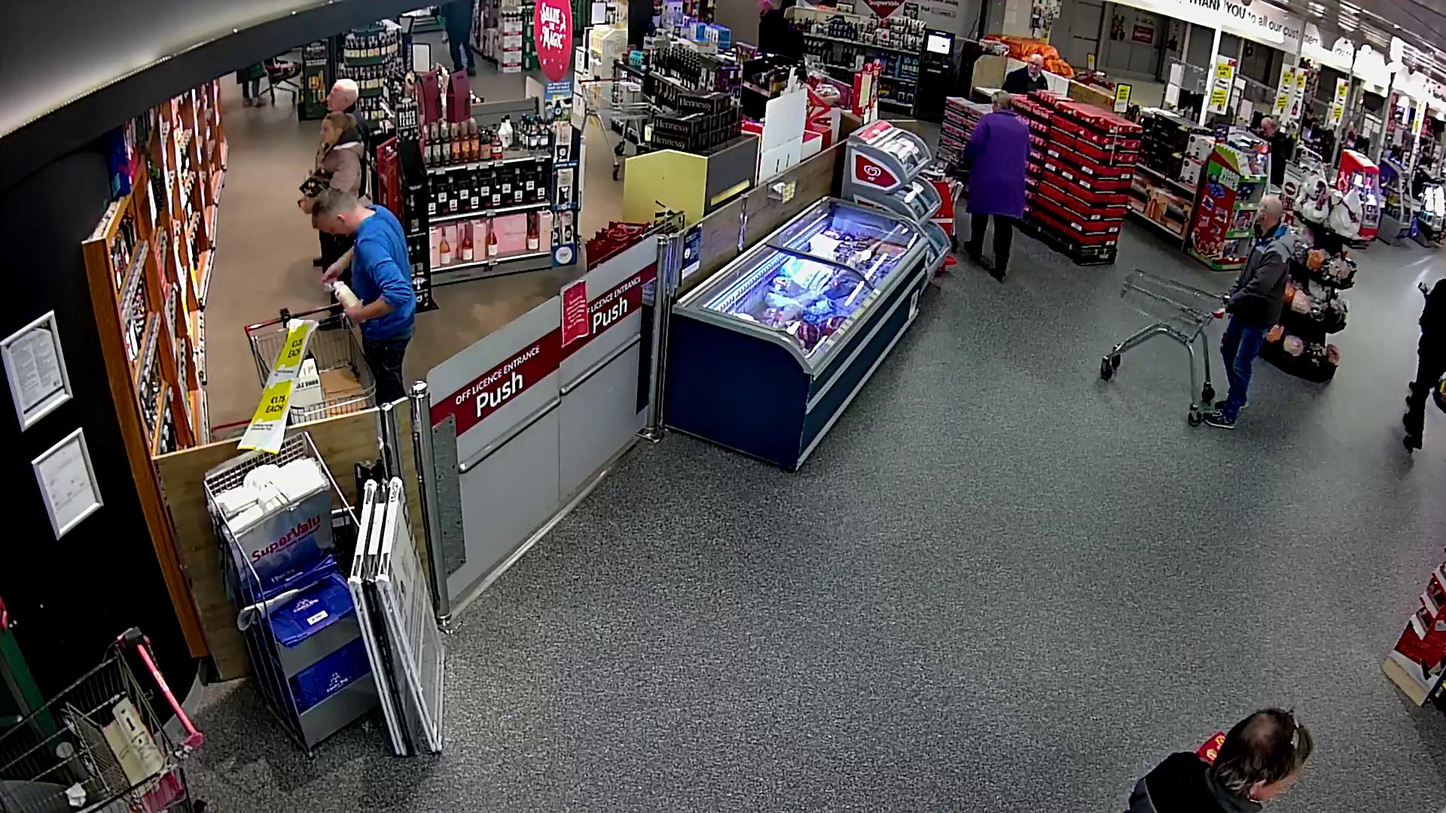empty-trolly: (1101, 267, 1226, 429)
person: (1205, 195, 1293, 427)
person-with-empty-basket-trolly: (1101, 195, 1293, 429)
